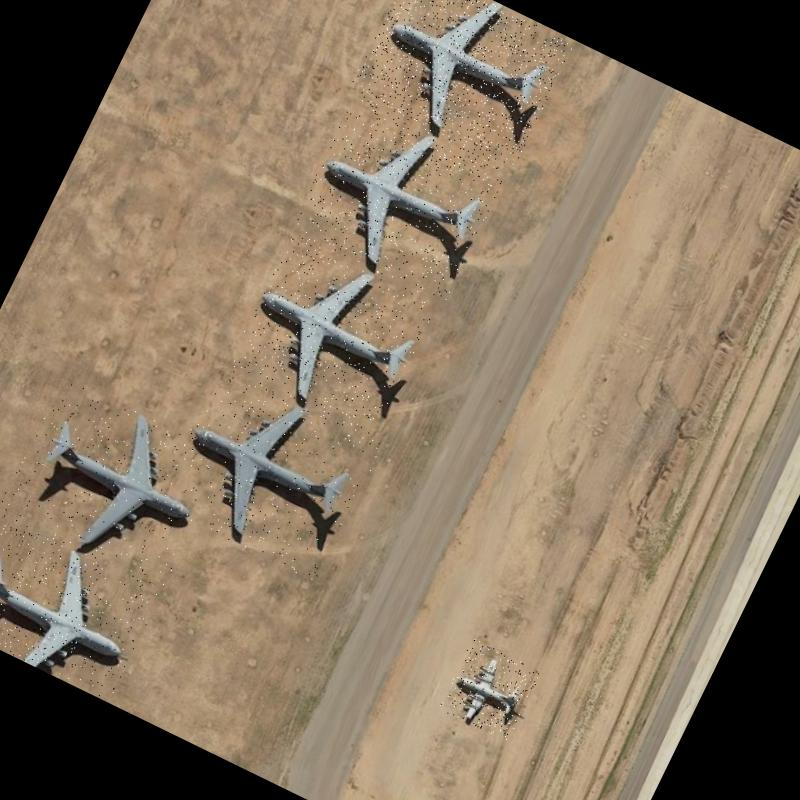A4: (154, 365, 384, 582), (0, 375, 227, 593), (290, 92, 510, 300), (226, 228, 439, 436), (348, 0, 574, 169), (0, 511, 162, 701)
A9: (438, 638, 541, 743)
